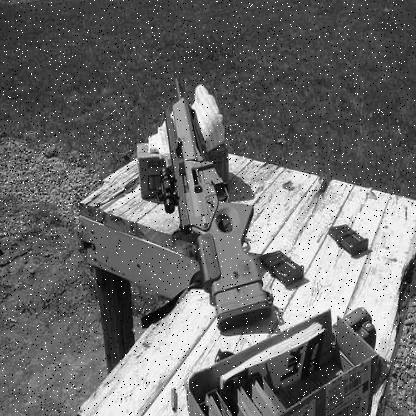rifle: (153, 70, 288, 317)
